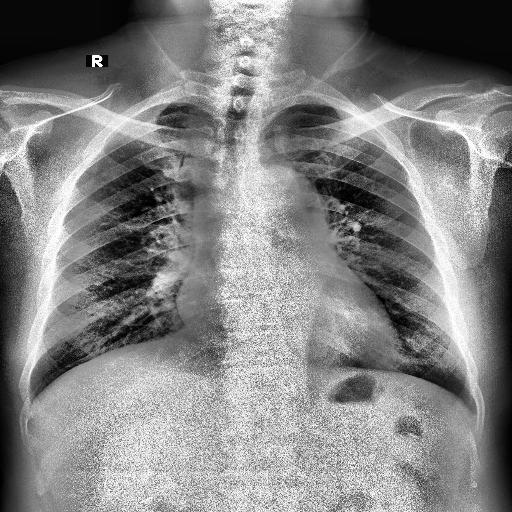0- Aortic enlargement: (245, 166, 327, 232), (257, 164, 328, 233), (252, 166, 326, 228)
3- Cardiomegaly: (174, 284, 409, 376), (173, 283, 401, 363)
